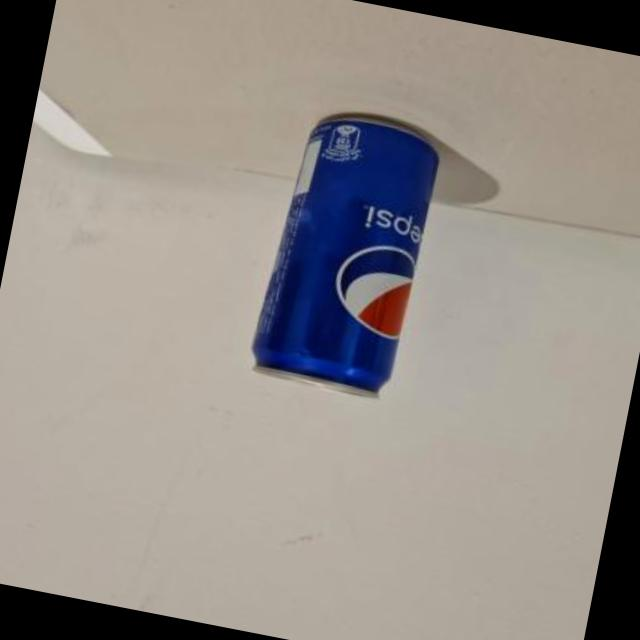metal: (255, 122, 440, 400)
